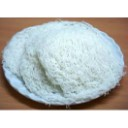idiyappam: (37, 22, 116, 90), (5, 31, 69, 97)
